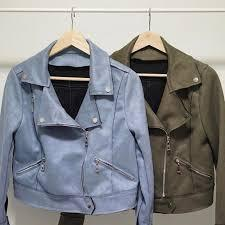jacket: (0, 38, 152, 225), (109, 34, 225, 222)
